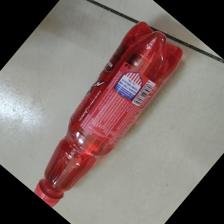Sting: (26, 21, 185, 208)
